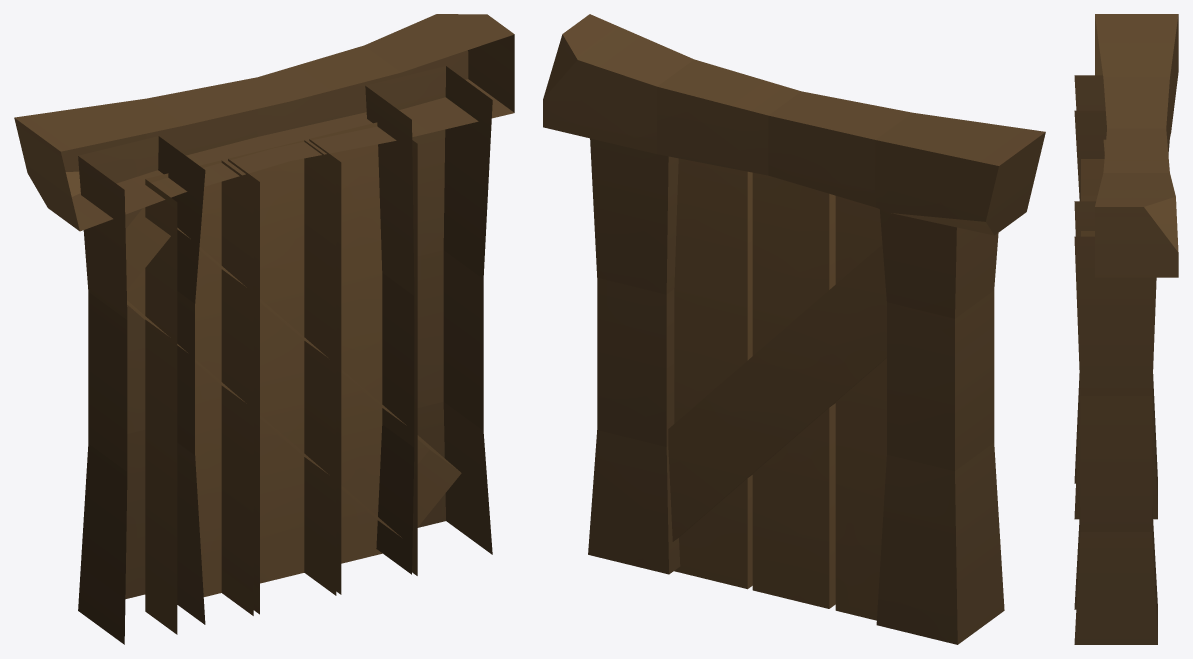
File: Door001.fbx
3 renders of one model, left to right at view 1: azimuth 30°, elevation 25°; view 2: azimuth 150°, elevation 25°; view 3: azimuth 270°, elevation 25°, orthographic. The views are drawn at different scales.
Parts seen in each view (by area): view 1: Cube.038; view 2: Cube.038; view 3: Cube.038.
Boxes of the visible parts, x1=… form: Cube.038: x1=14, y1=14, x2=514, y2=644; Cube.038: x1=543, y1=14, x2=1045, y2=644; Cube.038: x1=1074, y1=14, x2=1178, y2=644.
Bounding box in the file's own units: 328 × 352 × 72.45.
